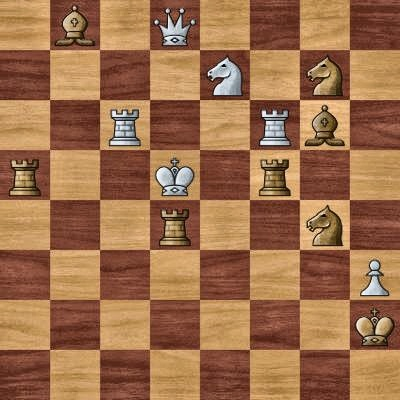black-bishop: (50, 0, 100, 50), (300, 100, 350, 150)
black-king: (350, 300, 400, 350)
black-knight: (300, 50, 350, 100), (300, 200, 350, 250)
black-rook: (0, 150, 50, 200), (250, 150, 300, 200), (150, 200, 200, 250)
white-king: (150, 150, 200, 200)
white-knight: (200, 50, 250, 100)
white-pawn: (350, 250, 400, 300)
white-queen: (150, 0, 200, 50)
white-rook: (100, 100, 150, 150), (250, 100, 300, 150)
